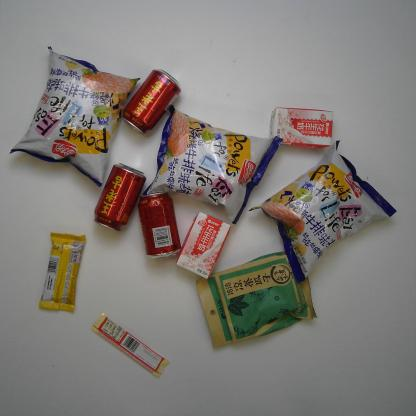Chocolate: (89, 312, 171, 379), (37, 231, 87, 315)
Dried Food: (195, 248, 318, 346)
Drink: (119, 68, 182, 137), (92, 162, 146, 230), (137, 191, 182, 259)
Milk: (176, 212, 232, 281), (267, 106, 335, 149)
Puffed Food: (248, 140, 397, 283), (9, 46, 141, 188), (140, 104, 283, 224)
